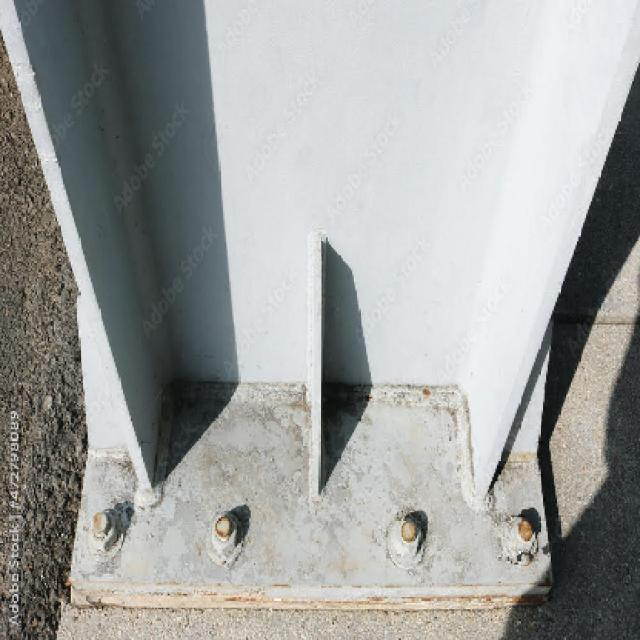Regular bolt: (388, 514, 426, 570), (208, 512, 244, 564), (89, 512, 125, 558), (504, 519, 541, 561)
